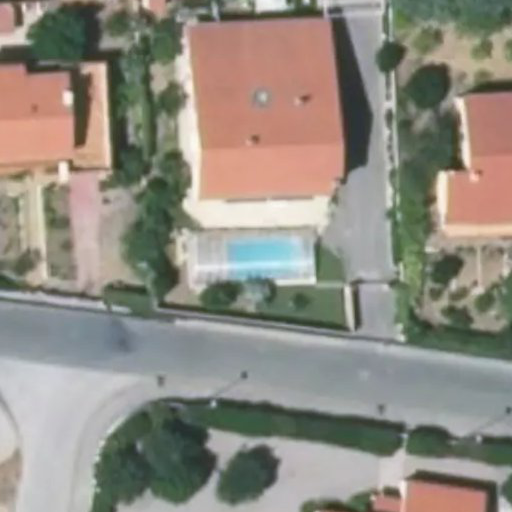pool: (217, 225, 294, 259)
